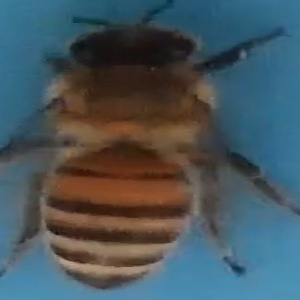bee: (2, 3, 298, 292)
